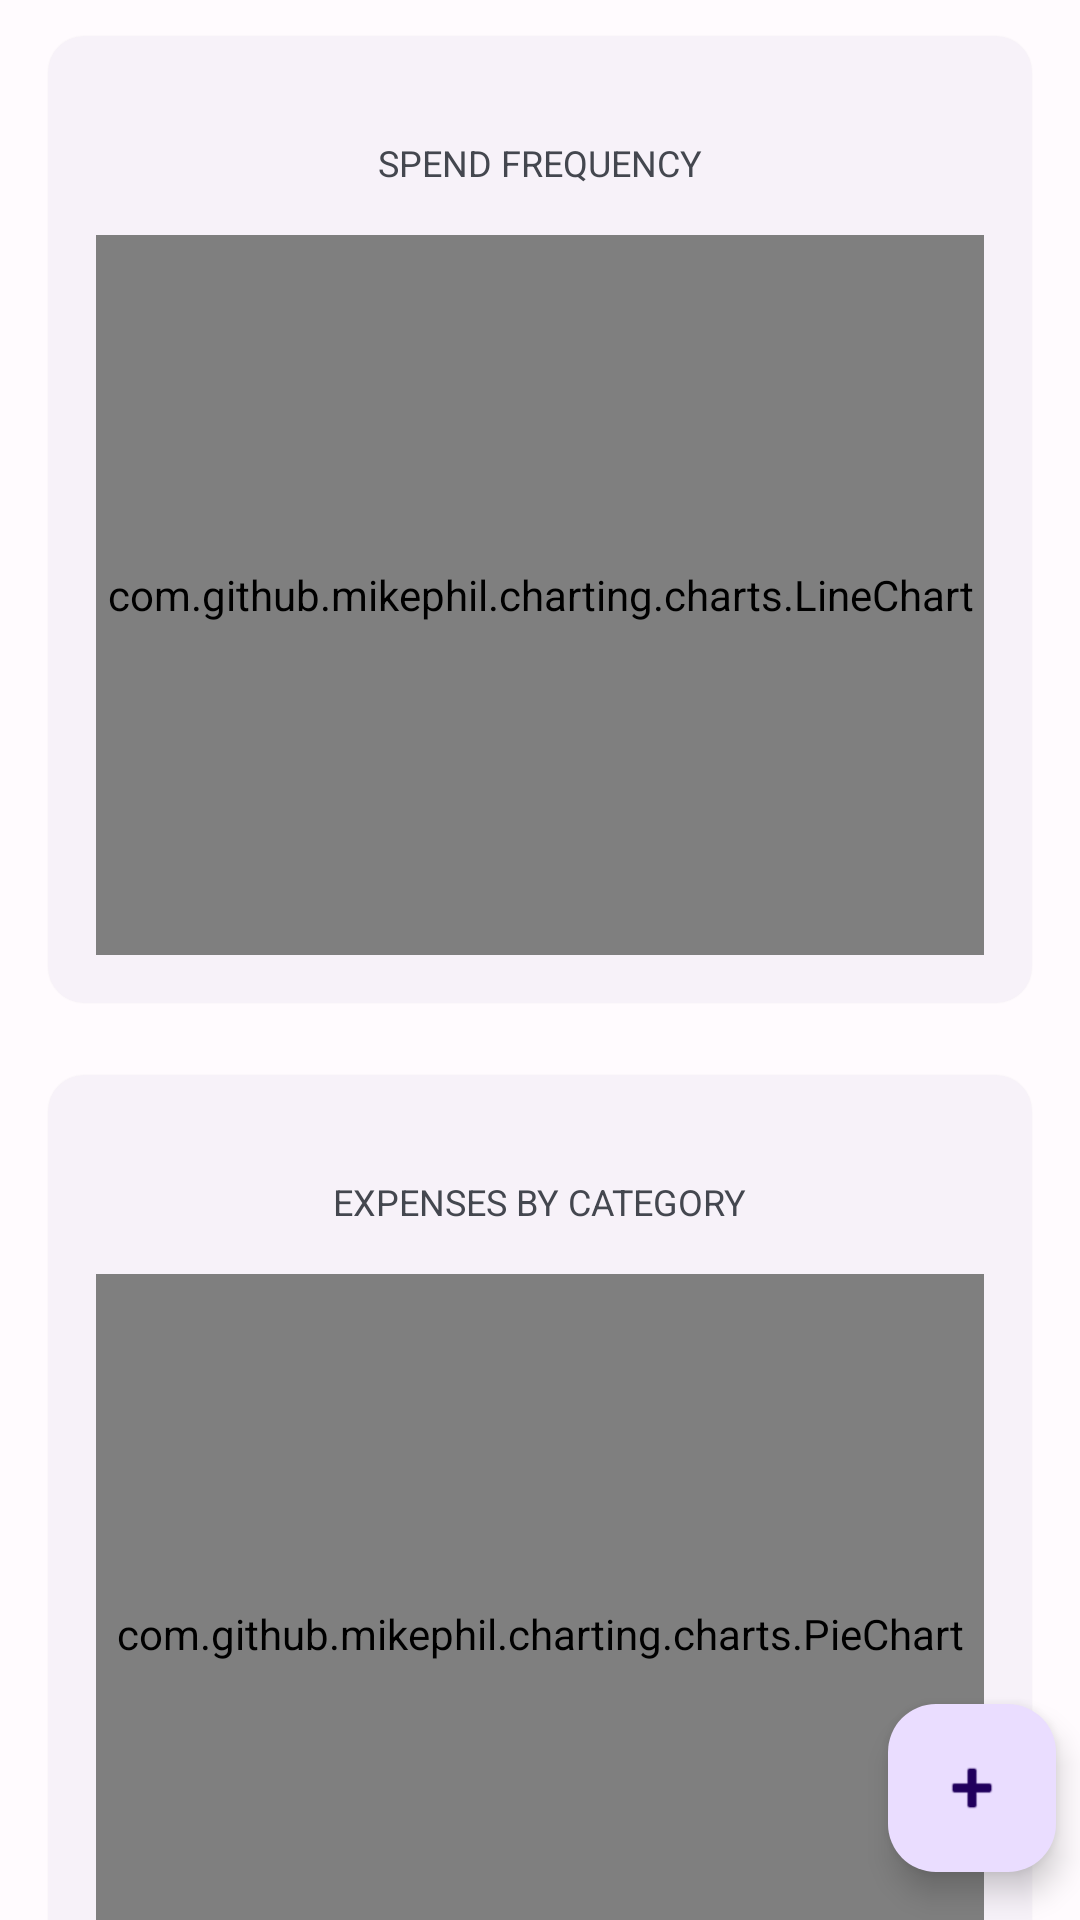

Icon click points for this 1080px x 1920px phone screenshot, format (x=x, y=y):
Add new item: (x=972, y=1788)
